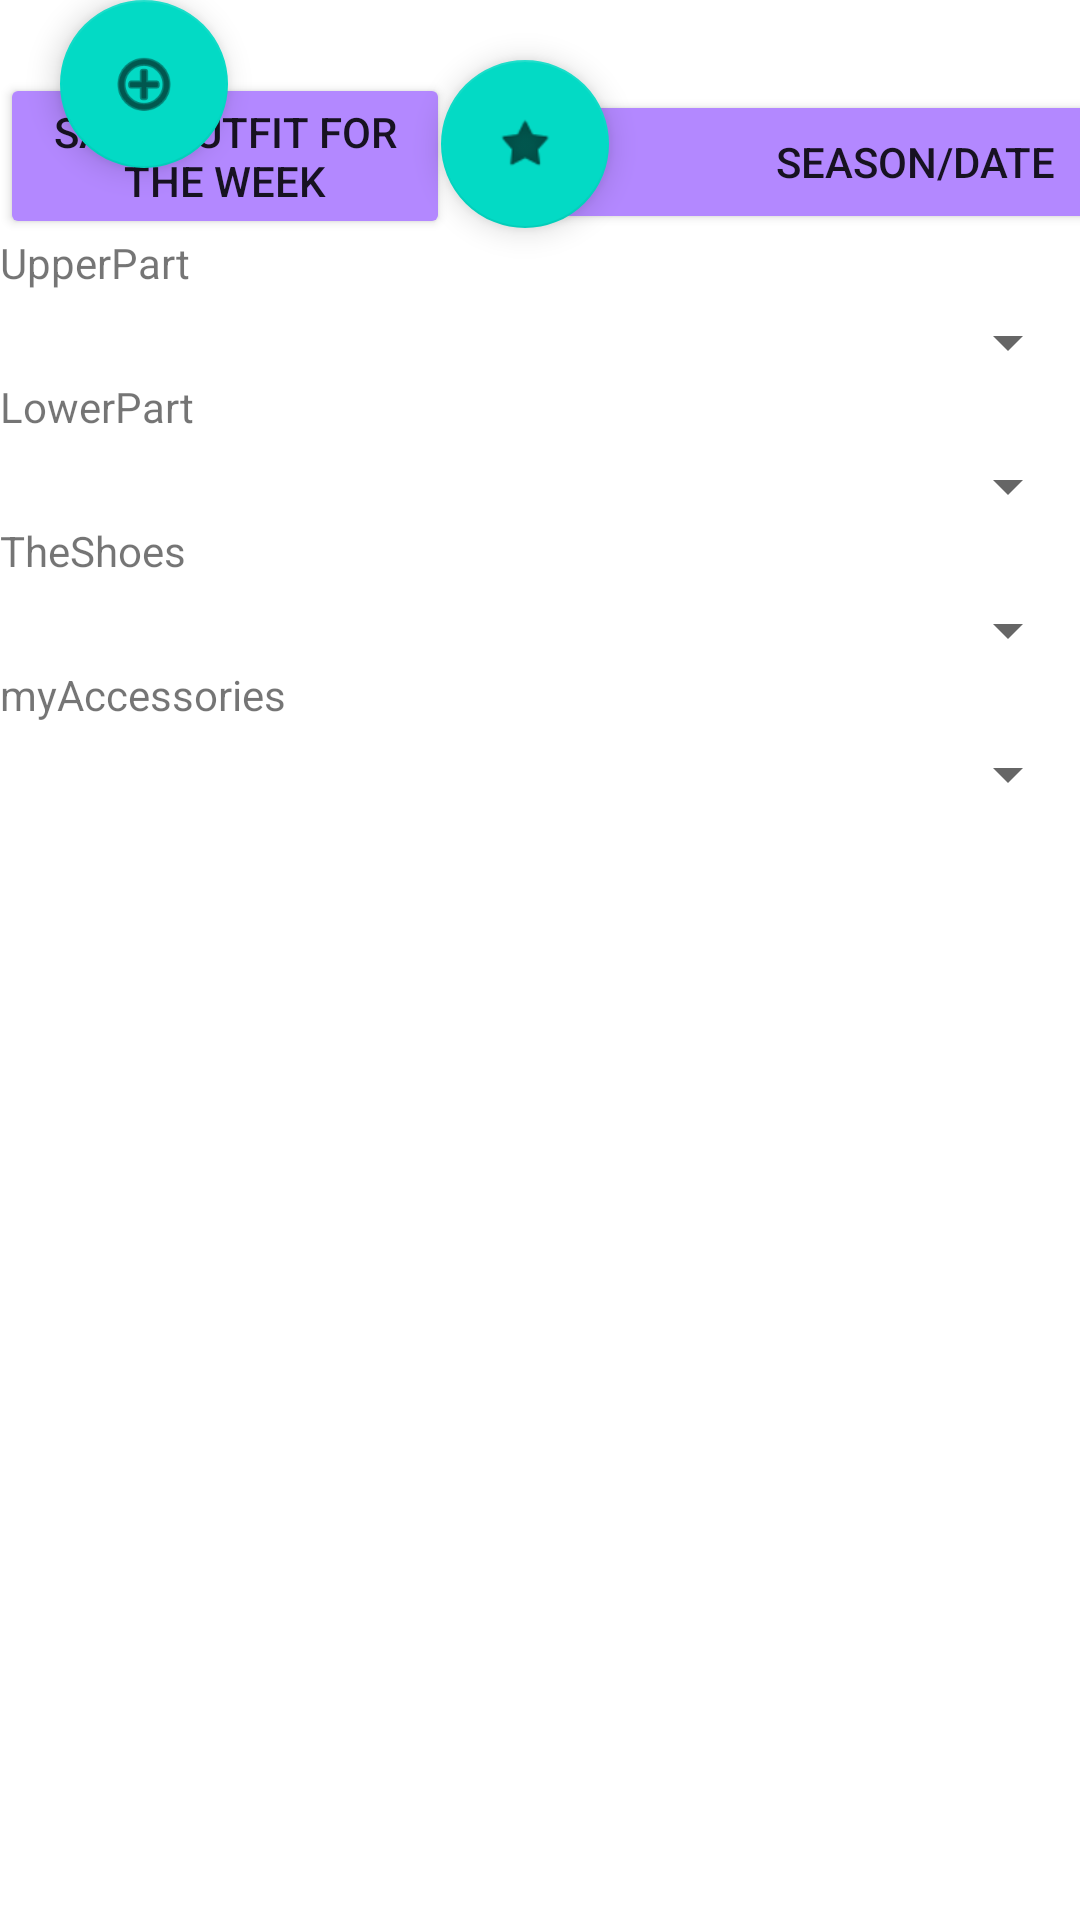

Where to tap for icons on this 1080px×1920px app screen, as [x,y]:
add: [144,84]
star off: [525,144]
